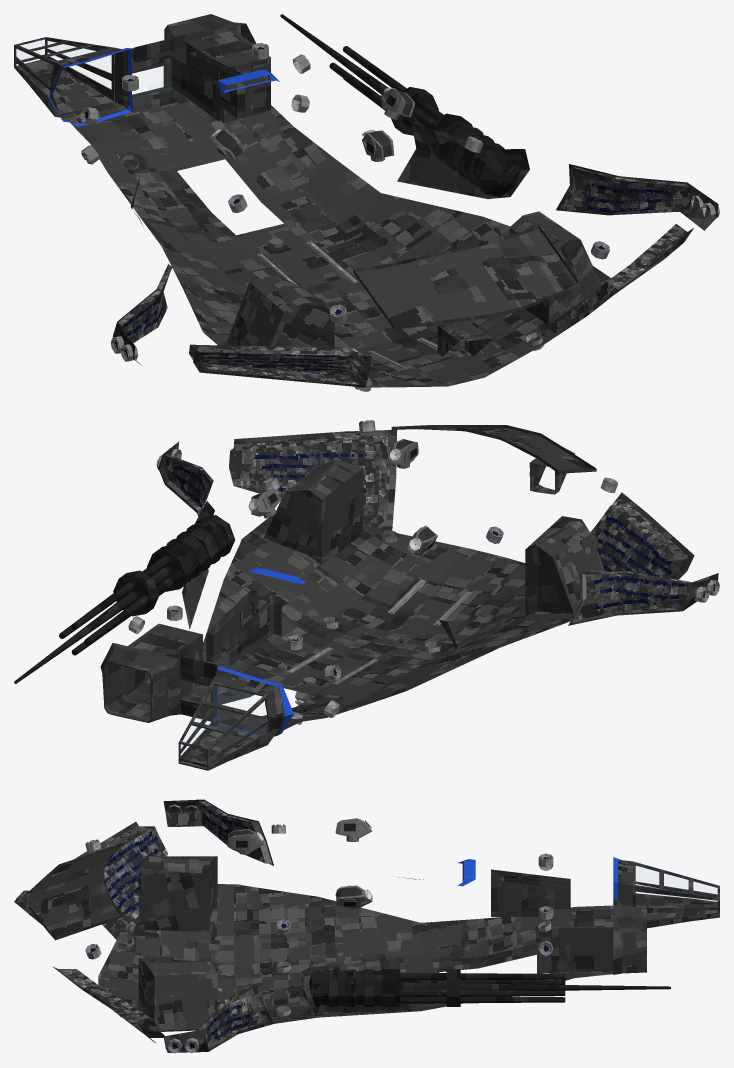
File: F7Blackpool_Exterior.glb
3 renders of one model, top to bottom at view 1: azimuth 30°, elevation 25°; view 2: azimuth 150°, elevation 25°; view 3: azimuth 270°, elevation 25°, orthographic. The views are drawn at different scales.
Parts seen in each view (by area): view 1: Hull, Thrusters, Antenna, Bridge, Balcony Interior, FrontWeaponShroud, Turret.002, Turret, Turret.001; view 2: Hull, Thrusters, Antenna, FrontWeaponShroud, Bridge, Balcony Interior, Turret.002, Turret, Turret.001; view 3: Hull, Thrusters, Antenna, Bridge, FrontWeaponShroud, Turret, Turret.002, Turret.001.
Boxes of the visible parts, <box> form: Hull: <box>49,23,718,387</box>; Thrusters: <box>118,166,691,384</box>; Antenna: <box>280,14,520,196</box>; Bridge: <box>14,37,114,116</box>; Balcony Interior: <box>437,320,492,356</box>; FrontWeaponShroud: <box>164,14,245,99</box>; Turret.002: <box>380,87,414,119</box>; Turret: <box>362,129,394,161</box>; Turret.001: <box>210,129,245,160</box>; Hull: <box>124,425,718,744</box>; Thrusters: <box>159,434,691,684</box>; Antenna: <box>14,515,235,683</box>; FrontWeaponShroud: <box>100,643,181,722</box>; Bridge: <box>178,681,270,770</box>; Balcony Interior: <box>529,447,575,494</box>; Turret.002: <box>248,488,280,518</box>; Turret: <box>389,438,418,468</box>; Turret.001: <box>406,525,437,555</box>; Hull: <box>29,799,632,1052</box>; Thrusters: <box>58,801,271,1048</box>; Antenna: <box>303,969,670,1006</box>; Bridge: <box>633,861,719,928</box>; FrontWeaponShroud: <box>613,898,646,974</box>; Turret: <box>227,828,263,854</box>; Turret.002: <box>335,885,372,909</box>; Turret.001: <box>335,818,371,841</box>.
Bounding box in the file's own units: 48.56 × 16.22 × 60.72.
3 materials, 2 textured.
